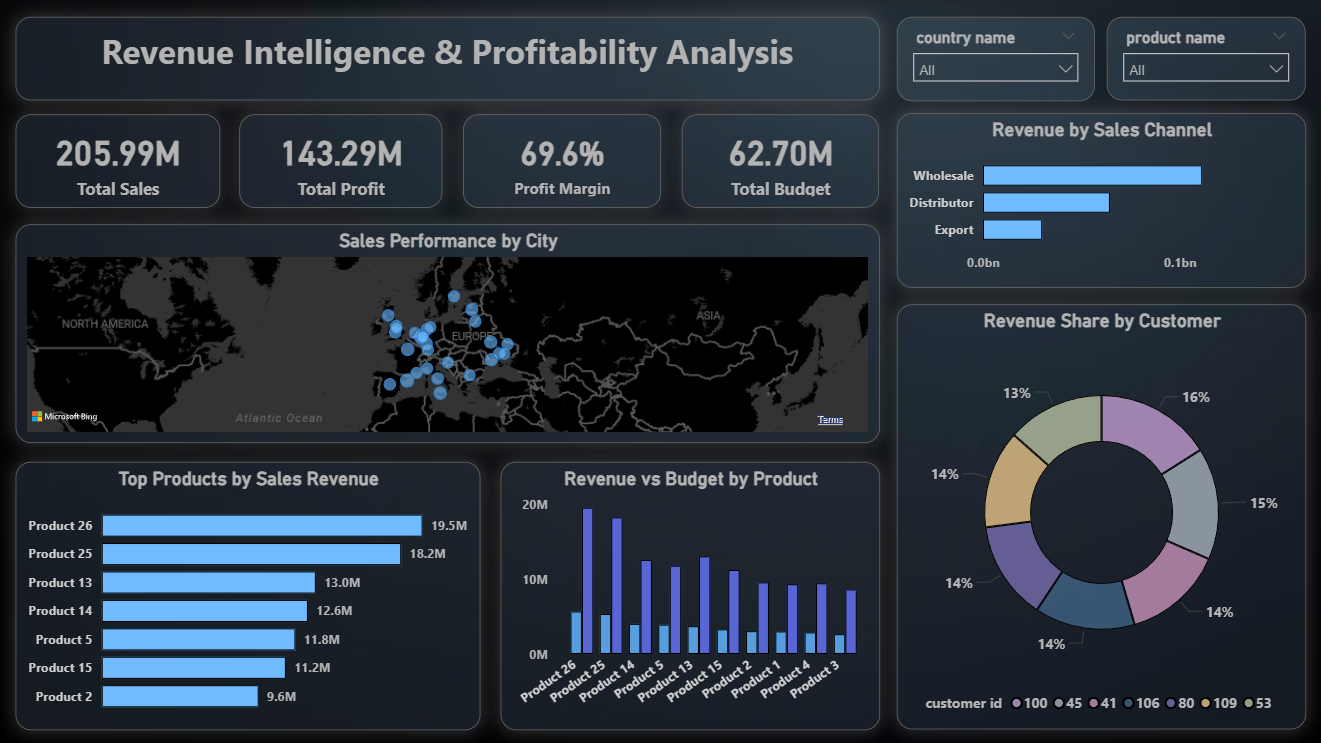

This screenshot's page, from the dashboard's own definition file:
{"tool":"powerbi","page":{"name":"Dashboard","canvas":[1280,720],"ordinal":0},"visuals":[{"type":"card","fields":{"Values":["Sum(sales_orders.sales_amount)"]},"box":[16.5,112.5,197.6,90.6],"z":0},{"type":"card","fields":{"Values":["Sum(budgets.budget_amount)"]},"box":[660,112.5,190.7,90.6],"z":1000},{"type":"clusteredBarChart","title":"Top Products by Sales Revenue","fields":{"Category":["product_details.product_name"],"Y":["Sum(sales_orders.sales_amount)"]},"box":[16.5,447.3,448.7,259.3],"z":2000},{"type":"clusteredColumnChart","title":"Revenue vs Budget by Product","fields":{"Category":["product_details.product_name"],"Y":["Sum(budgets.budget_amount)","Sum(sales_orders.sales_amount)"]},"box":[484.4,447.3,366.4,259.3],"z":3000},{"type":"map","title":"Sales Performance by City","fields":{"Size":["Sum(sales_orders.sales_amount)"],"Category":["region_details.city"]},"box":[16.5,218.2,834.3,211.3],"z":4000},{"type":"card","fields":{"Values":["sales_orders.Profit"]},"box":[233.3,112.5,196.2,90.6],"z":5000},{"type":"slicer","fields":{"Values":["budgets.product_name"]},"box":[1070.3,17.8,192.1,81],"z":6000},{"type":"slicer","fields":{"Values":["region_details.country_name"]},"box":[867.5,17.5,191.2,81.2],"z":7000},{"type":"donutChart","title":"Revenue Share by Customer","fields":{"Category":["customer_details.customer_id"],"Y":["Sum(sales_orders.sales_amount)"]},"box":[867.5,295,395,410],"z":8000},{"type":"barChart","title":"Revenue by Sales Channel","fields":{"Category":["sales_orders.channel_name"],"Y":["Sum(sales_orders.sales_amount)"]},"box":[867.5,111.2,395,168.8],"z":9000},{"type":"textbox","box":[16.5,17.8,834.3,81],"z":10000},{"type":"card","fields":{"Values":["budgets.Profit Margin"]},"box":[448.8,112.5,191.2,90],"z":11000}]}

Visuals, with their boxes in screenshot pixels (x1, y1, x2, y2), scaled from the page's 1280x720 canvas onto the 1321x743 screenshot:
card - Sum(sales_orders.sales_amount): [17,116,221,210]
card - Sum(budgets.budget_amount): [681,116,878,210]
"Top Products by Sales Revenue" clusteredBarChart: [17,462,480,729]
"Revenue vs Budget by Product" clusteredColumnChart: [500,462,878,729]
"Sales Performance by City" map: [17,225,878,443]
card - sales_orders.Profit: [241,116,443,210]
slicer - budgets.product_name: [1105,18,1303,102]
slicer - region_details.country_name: [895,18,1093,102]
"Revenue Share by Customer" donutChart: [895,304,1303,728]
"Revenue by Sales Channel" barChart: [895,115,1303,289]
textbox: [17,18,878,102]
card - budgets.Profit Margin: [463,116,660,209]
